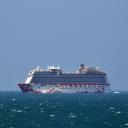cruises: (17, 65, 113, 96)
